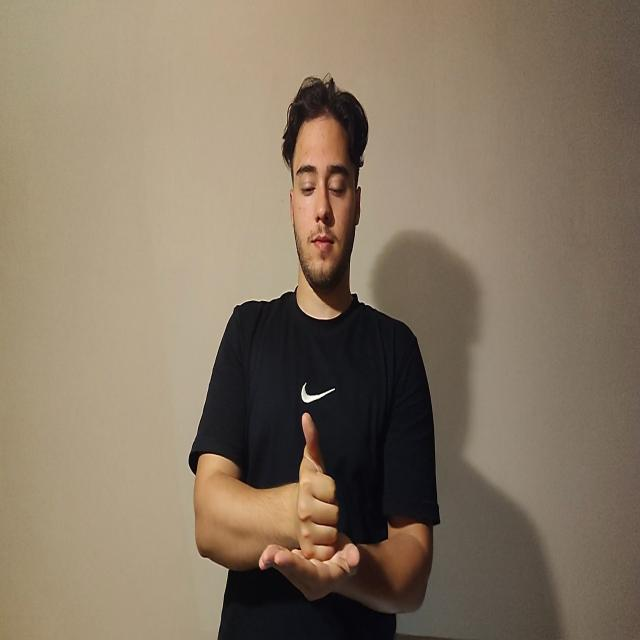help: (255, 414, 362, 599)
